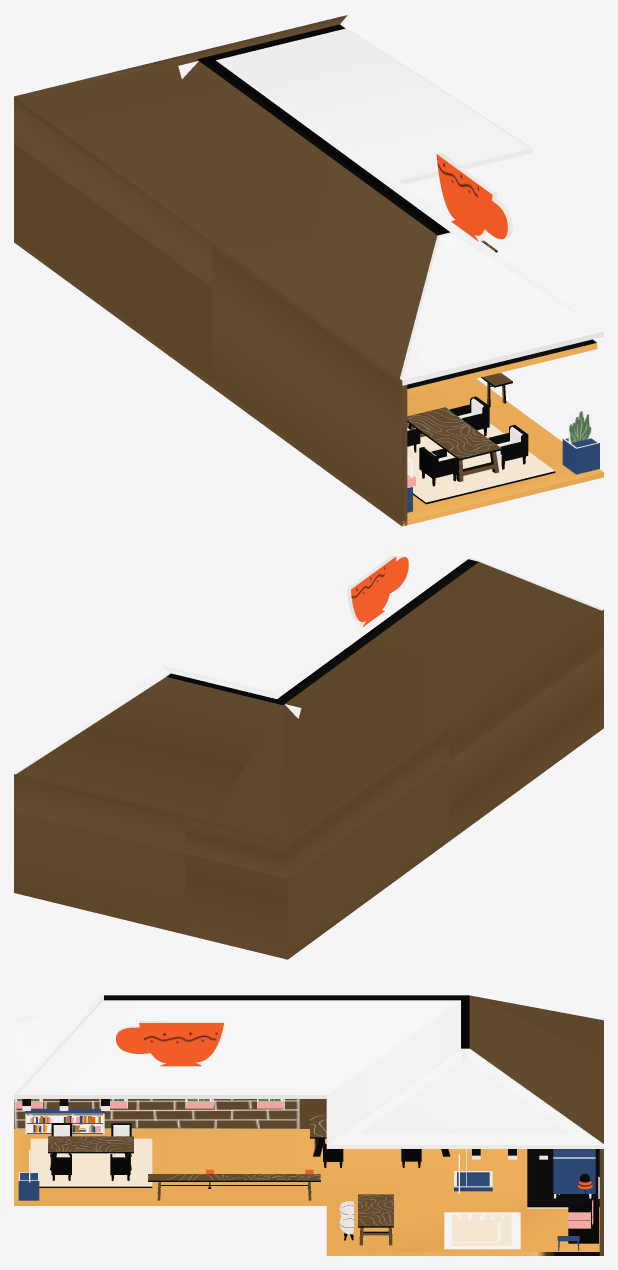
The picture shows the model from 3 angles, top to bottom: view 1: azimuth 30°, elevation 25°; view 2: azimuth 150°, elevation 25°; view 3: azimuth 270°, elevation 25°; orthographic projection. The views are drawn at different scales.
Parts seen in each view (by area): view 1: 咖啡厅, 立方体_2, 杯子, 桌子_1, 立方体_3_3, 花盘_1, 椅子_2, 椅子_3, 椅子_5, 立方体_6_2; view 2: 咖啡厅, 杯子; view 3: 咖啡厅, 立方体_2, 杯子, 地毯, 立方体_1, 书架, 桌子_1, 桌子_2, 桌子_3, 立方体, 立方体_10, 花盘 (+5 smaller).
Part boxes in pixels (left/top/right/bottom): 咖啡厅: left=14, top=14, right=603, bottom=526; 立方体_2: left=407, top=423, right=555, bottom=504; 杯子: left=436, top=152, right=512, bottom=241; 桌子_1: left=407, top=407, right=501, bottom=481; 立方体_3_3: left=407, top=339, right=597, bottom=395; 花盘_1: left=562, top=437, right=599, bottom=474; 椅子_2: left=419, top=447, right=459, bottom=486; 椅子_3: left=488, top=425, right=528, bottom=469; 椅子_5: left=450, top=396, right=489, bottom=435; 立方体_6_2: left=568, top=408, right=593, bottom=443; 咖啡厅: left=14, top=558, right=603, bottom=959; 杯子: left=346, top=555, right=408, bottom=626; 咖啡厅: left=14, top=995, right=603, bottom=1255; 立方体_2: left=30, top=1138, right=152, bottom=1187; 杯子: left=116, top=1021, right=224, bottom=1066; 地毯: left=444, top=1212, right=520, bottom=1249; 立方体_1: left=527, top=1149, right=599, bottom=1208; 书架: left=553, top=1149, right=595, bottom=1193; 桌子_1: left=48, top=1136, right=133, bottom=1170; 桌子_2: left=148, top=1174, right=320, bottom=1200; 桌子_3: left=358, top=1194, right=393, bottom=1245; 立方体: left=568, top=1198, right=598, bottom=1243; 立方体_10: left=27, top=1115, right=102, bottom=1132; 花盘: left=454, top=1171, right=492, bottom=1191.
Bounding box in the file's own units: 1000 × 652 × 2000.
